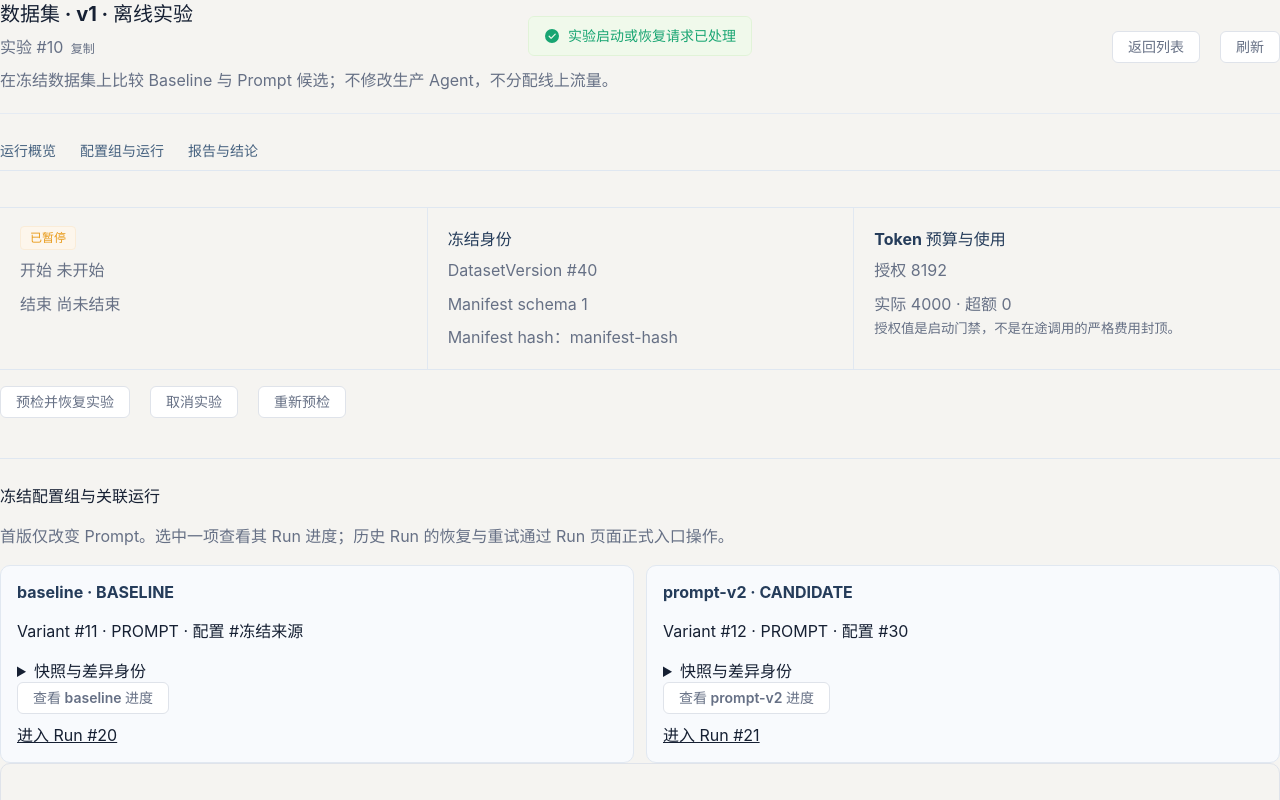
preflight, budget and mutations › resumes using exactly the original budget, never a silently preselected budget
The image size is (1280, 800).
Click the button "预检并恢复实验".
click(65, 402)  # box x1=0 y1=386 x2=130 y2=418
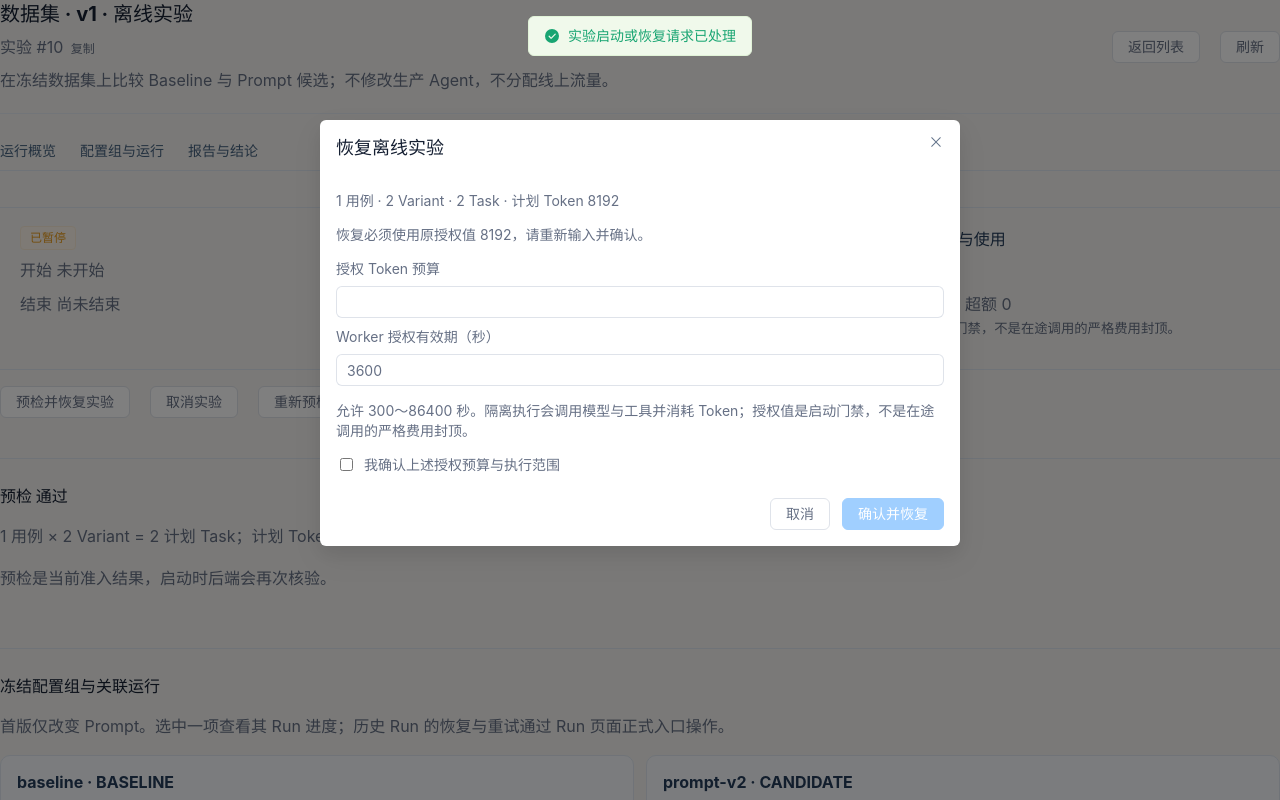
Type "9000" into the number field named "授权 Token 预算".
click(640, 302); type("9000")  # box x1=347 y1=287 x2=933 y2=317
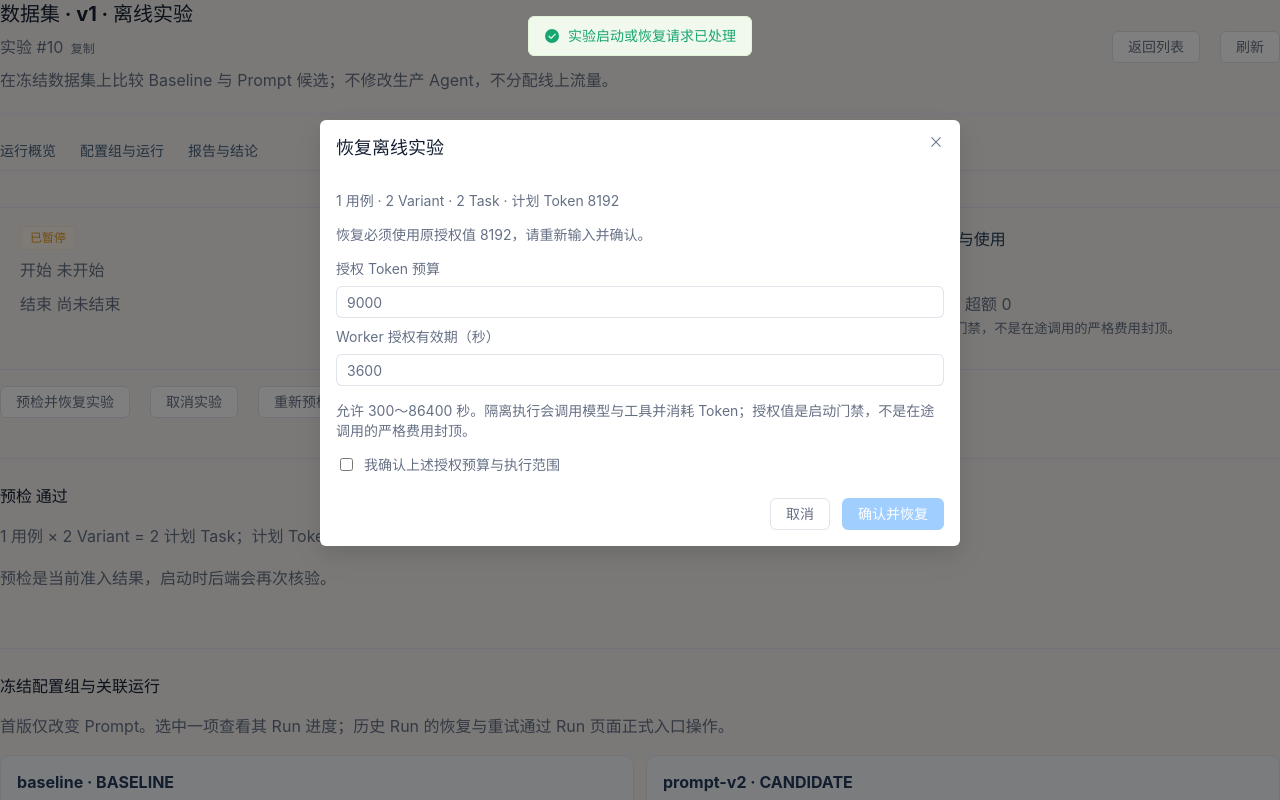
Click the checkbox named "确认实验预算与隔离执行".
click(346, 464)  # box x1=340 y1=458 x2=353 y2=470
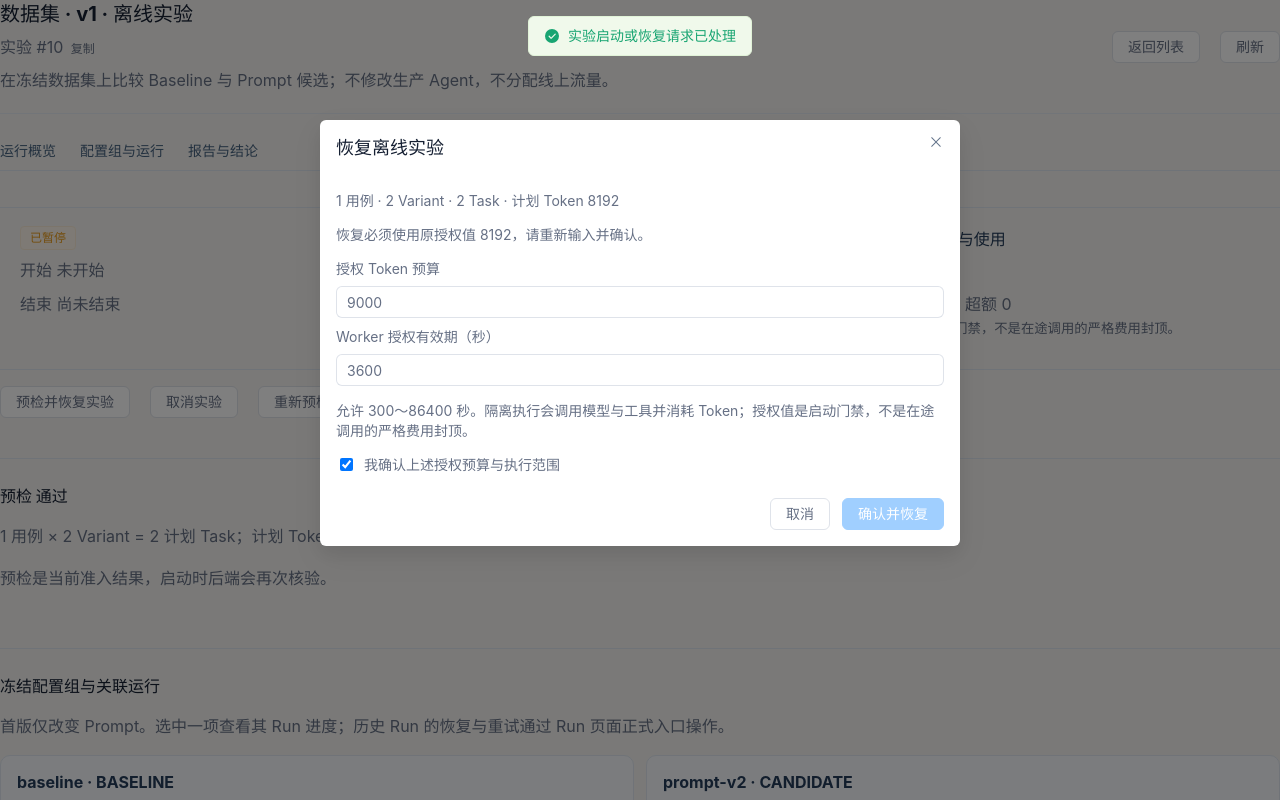
Expected: the button "确认并恢复" is disabled, x1=842 y1=498 x2=944 y2=530
Replace the text in the number field named "授权 Token 预算" with "8192" at x=640, y=302, box x1=347 y1=287 x2=933 y2=317
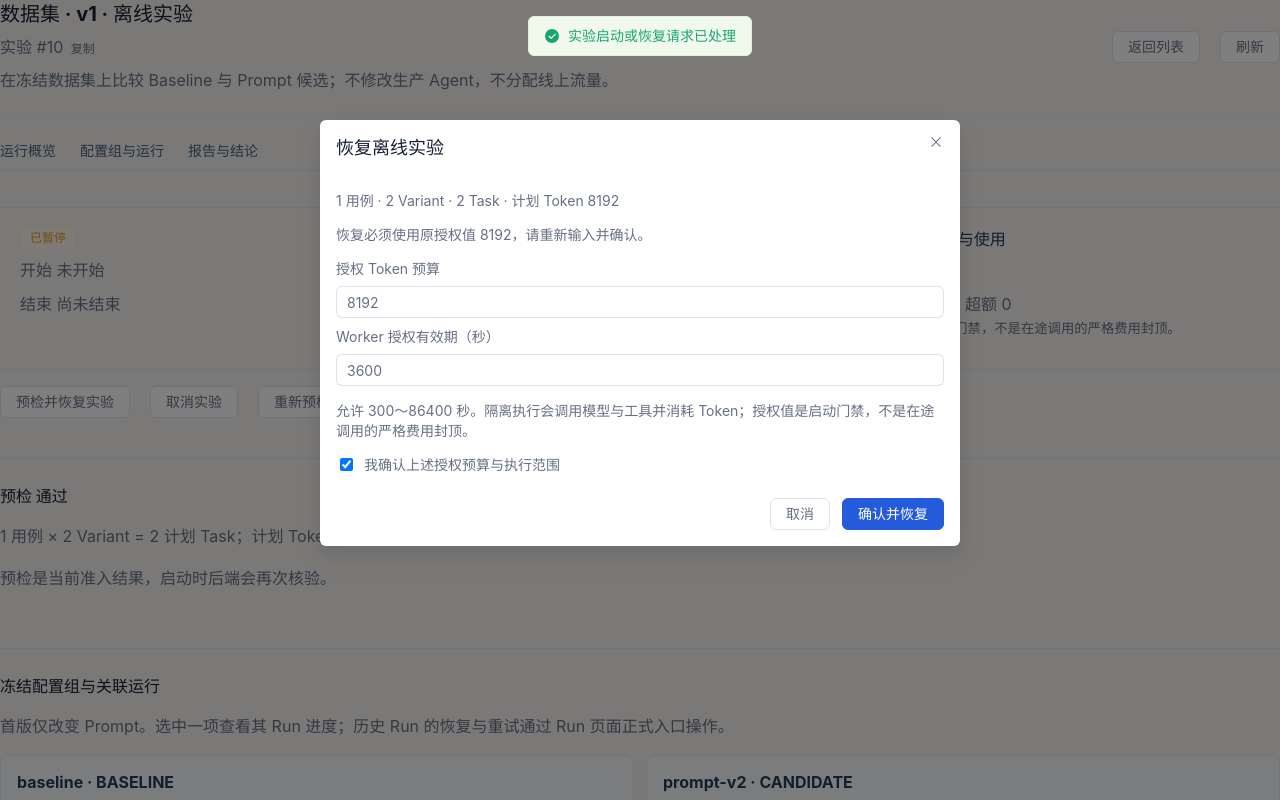
Expected: the button "确认并恢复" is enabled, x1=842 y1=498 x2=944 y2=530
